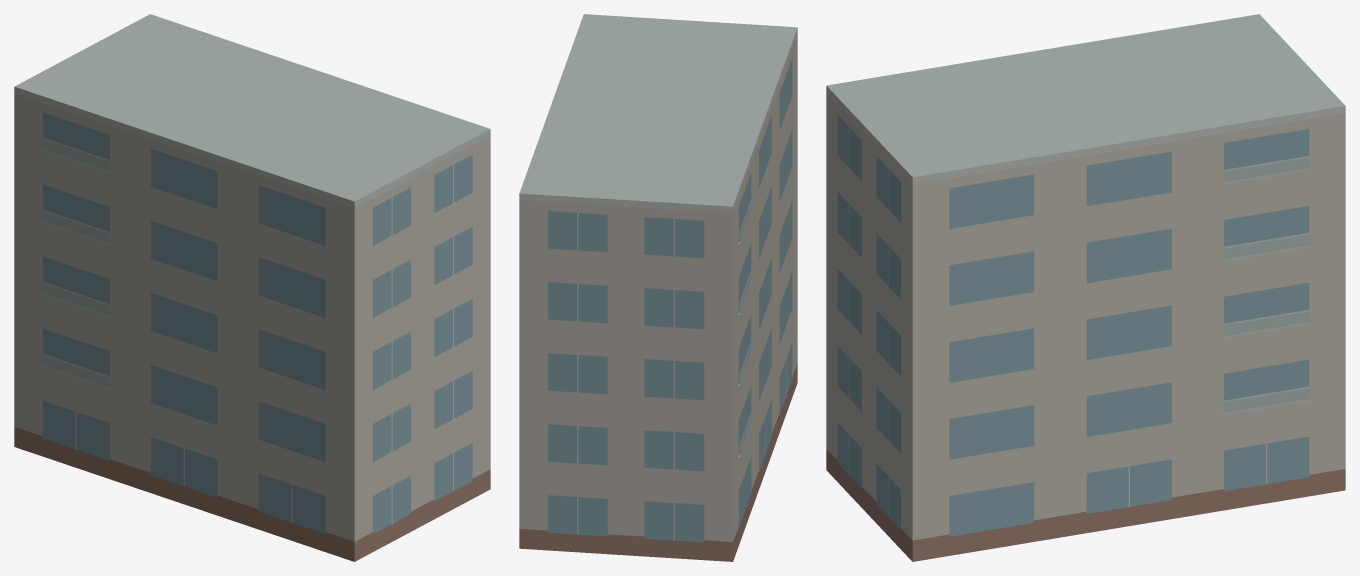
Rendered from survey-upis-32894092.glb.
3 renders of one model, left to right at view 1: azimuth 30°, elevation 25°; view 2: azimuth 150°, elevation 25°; view 3: azimuth 270°, elevation 25°, orthographic. The views are drawn at different scales.
Parts seen in each view (by area): view 1: survey-upis-32894092.tmp; view 2: survey-upis-32894092.tmp; view 3: survey-upis-32894092.tmp.
Part boxes in pixels (x1,y1,x2,y2): survey-upis-32894092.tmp: (14, 14, 490, 561); survey-upis-32894092.tmp: (519, 14, 797, 561); survey-upis-32894092.tmp: (826, 14, 1345, 561).
Size of the model in its own units: 12.13 by 13.3 by 16.29.
